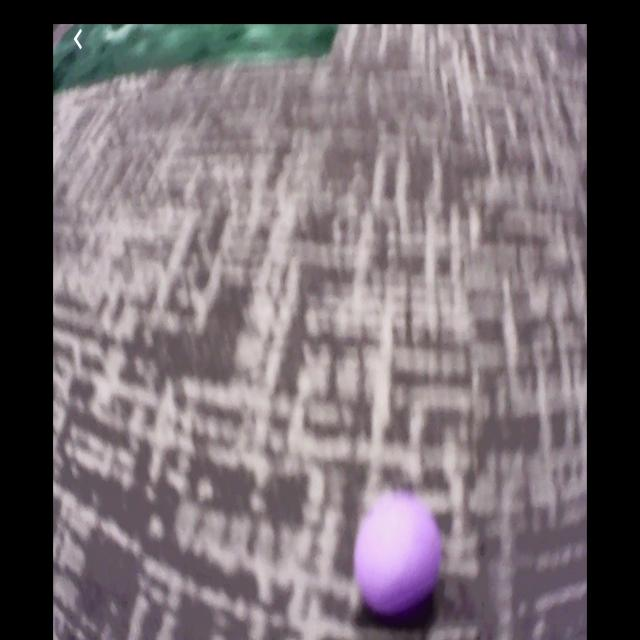ball: (356, 499, 443, 614)
